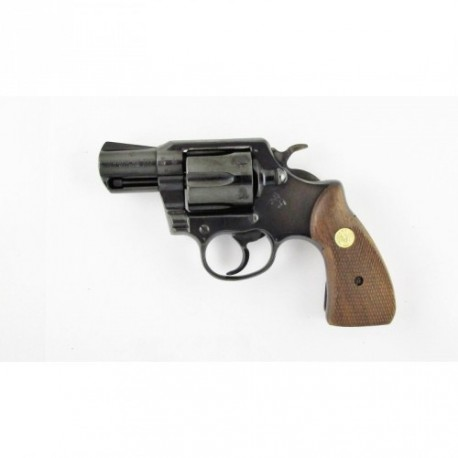Revolver: (74, 109, 418, 330)
